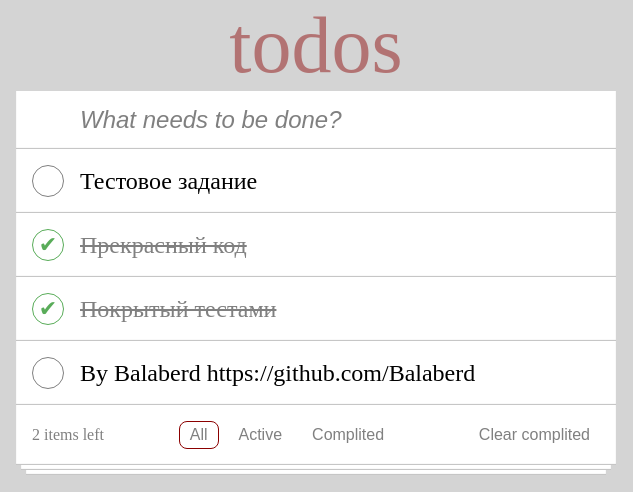
Test case: App tests › remove todo on click
The width and height of the screenshot is (633, 492).
Check: the number of elements with test id "todo-item" is 4, box x1=16 y1=149 x2=616 y2=213; x1=16 y1=213 x2=616 y2=277; x1=16 y1=277 x2=616 y2=341; x1=16 y1=341 x2=616 y2=405
Click the button "Clear complited": (534, 435) x1=469 y1=422 x2=600 y2=448
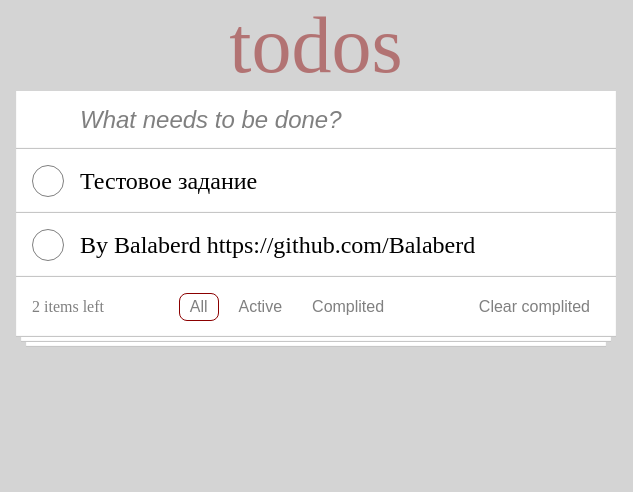
Check: the number of elements with test id "todo-item" is 2, box x1=16 y1=149 x2=616 y2=213; x1=16 y1=213 x2=616 y2=277
